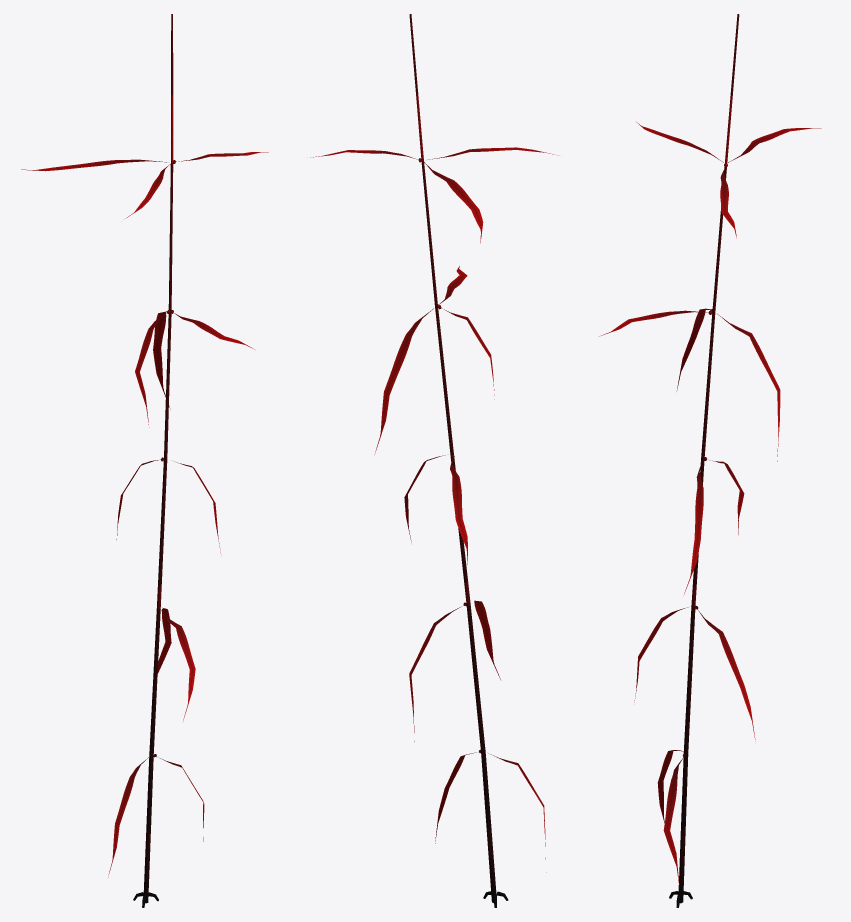
File: plant_shallows_kelp_a_lod2.glb
3 renders of one model, left to right at view 1: azimuth 30°, elevation 25°; view 2: azimuth 150°, elevation 25°; view 3: azimuth 270°, elevation 25°, orthographic. The views are drawn at different scales.
Visible parts, largest first — view 1: plant_shallows_kelp_a_lod2; view 2: plant_shallows_kelp_a_lod2; view 3: plant_shallows_kelp_a_lod2.
Boxes of the visible parts, box(x1,y1,x2,y2) form: plant_shallows_kelp_a_lod2: box(21, 14, 268, 907); plant_shallows_kelp_a_lod2: box(310, 14, 558, 907); plant_shallows_kelp_a_lod2: box(599, 14, 821, 907).
Size of the model in its own units: 1.72 by 6.5 by 1.57.
Materials: 1 (1 with a texture image).
